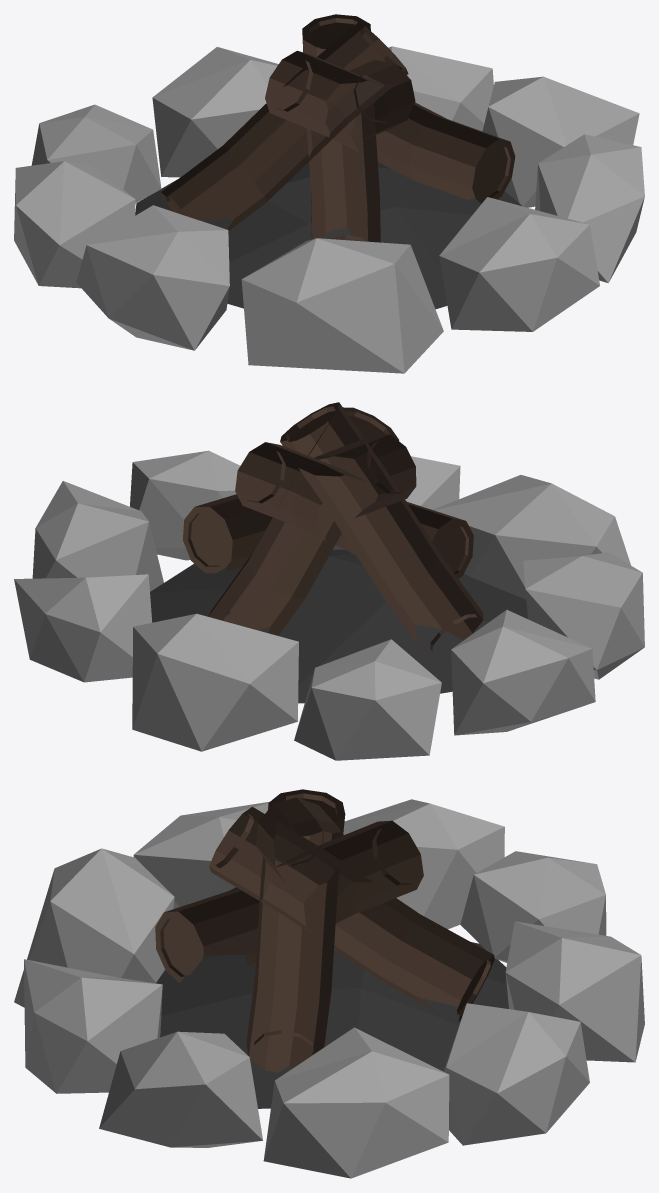
File: Fire.fbx
3 views of the same model, one above another, from view 1: azimuth 30°, elevation 25°; view 2: azimuth 150°, elevation 25°; view 3: azimuth 270°, elevation 25° (orthographic). The views are drawn at different scales.
Parts seen in each view (by area): view 1: Icosphere.014; view 2: Icosphere.014; view 3: Icosphere.014.
Boxes of the visible parts, box(x1,y1,x2,y2) form: Icosphere.014: box(14, 14, 644, 373); Icosphere.014: box(14, 402, 644, 760); Icosphere.014: box(14, 789, 644, 1178).
Size of the model in its own units: 84.64 by 34.47 by 74.73.
